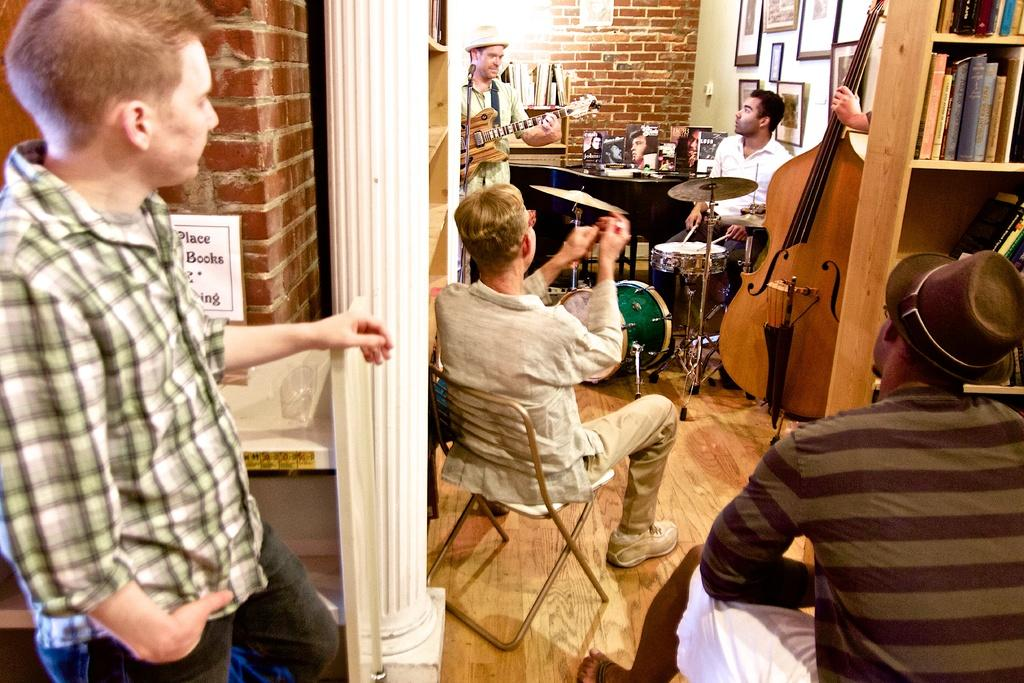Hat: (880, 232, 1016, 394)
